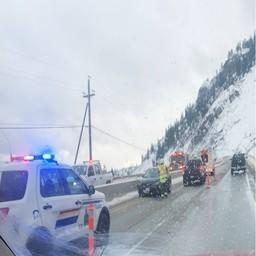Snow: (204, 65, 255, 159), (93, 177, 141, 188), (105, 191, 139, 206), (134, 153, 154, 174), (172, 177, 183, 184)
